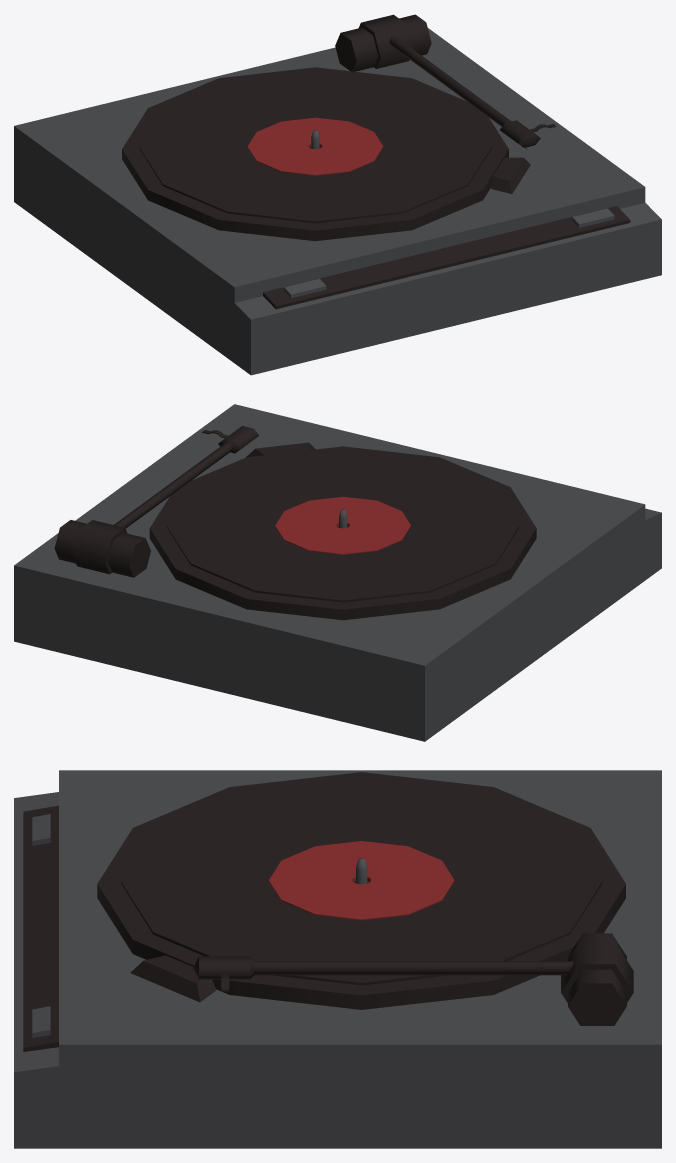
Rendered from 25_prop_record player.FBX.
3 views of the same model, one above another, from view 1: azimuth 30°, elevation 25°; view 2: azimuth 150°, elevation 25°; view 3: azimuth 270°, elevation 25° (orthographic). The views are drawn at different scales.
Visible parts, largest first — view 1: prop_record player, prop_record, prop_record player1; view 2: prop_record player, prop_record, prop_record player1; view 3: prop_record player, prop_record, prop_record player1.
Boxes of the visible parts, x1,y1,x2,y2 form: prop_record player: (14,28,661,375); prop_record: (139,72,491,223); prop_record player1: (335,14,556,151); prop_record player: (14,404,661,741); prop_record: (167,451,519,602); prop_record player1: (54,426,259,577); prop_record player: (14,770,661,1148); prop_record: (121,779,602,985); prop_record player1: (193,933,633,1025).
Size of the model in its own units: 26.79 by 6.93 by 26.76.
